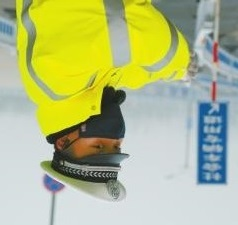person: (15, 1, 196, 204)
